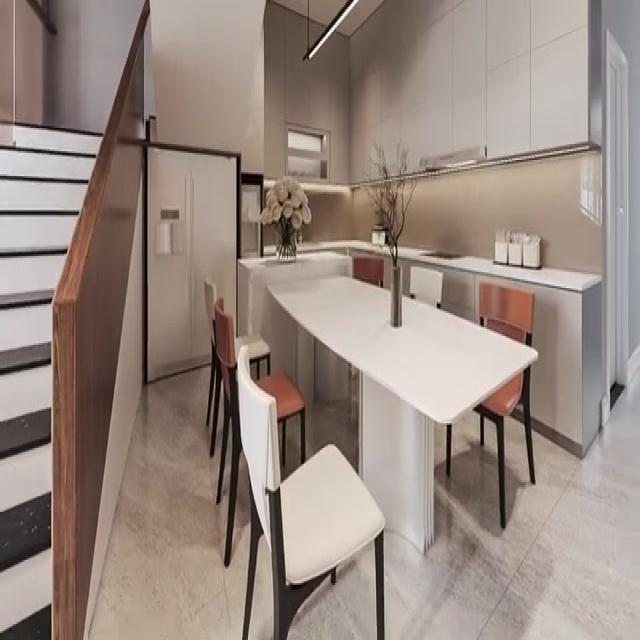obstacle: (264, 270, 538, 556), (235, 343, 385, 638), (445, 281, 537, 528)
